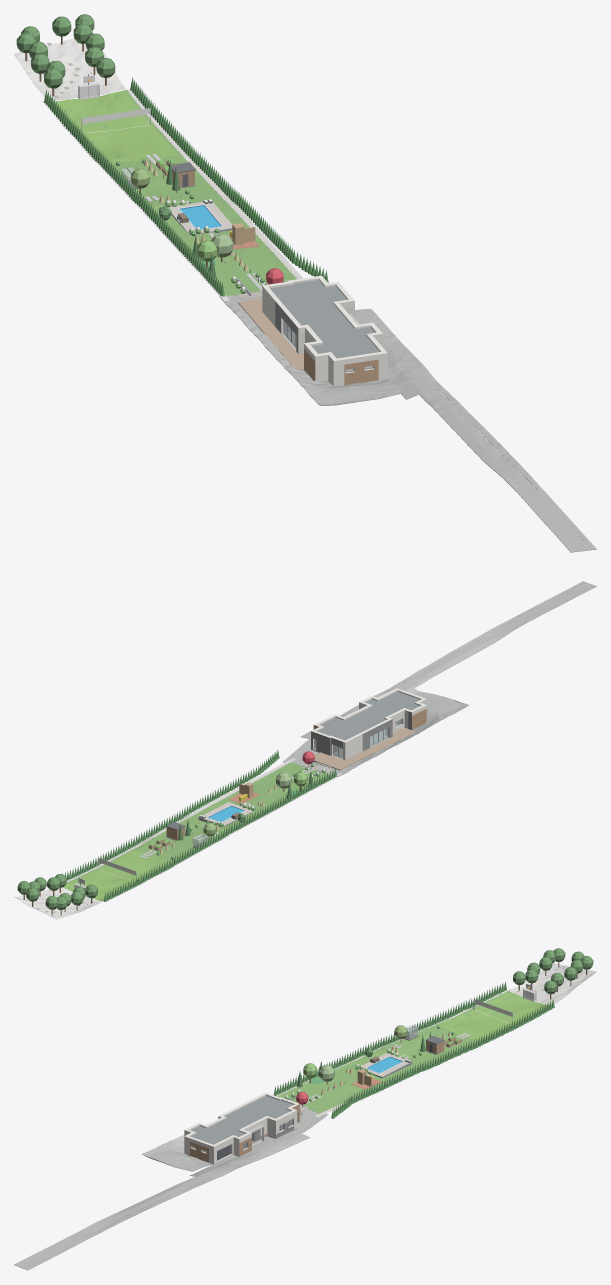
The picture shows the model from 3 angles, top to bottom: view 1: azimuth 30°, elevation 25°; view 2: azimuth 150°, elevation 25°; view 3: azimuth 330°, elevation 25°; orthographic projection. The views are drawn at different scales.
Parts seen in each view (by area): view 1: material_021, material_025, material_067, material_028, material_027, material_014, material_066, material_017, material_015, material_023, material_019, material_054; view 2: material_021, material_067, material_025, material_027, material_028, material_014, material_066, material_023, material_015, material_018, material_017; view 3: material_021, material_025, material_067, material_028, material_014, material_027, material_066, material_017, material_015, material_019.
Boxes of the visible parts, x1,y1,x2,y2 form: material_021: (219,290,596,552); material_025: (61,90,296,295); material_067: (44,77,328,296); material_028: (55,90,178,163); material_027: (14,38,302,301); material_014: (270,280,379,358); material_066: (16,14,115,88); material_017: (262,286,387,386); material_015: (262,275,387,360); material_023: (238,298,303,370); material_019: (304,349,378,385); material_054: (78,82,150,124); material_021: (283,581,596,776); material_067: (62,750,336,901); material_025: (63,762,331,901); material_027: (14,758,342,919); material_028: (63,850,171,900); material_014: (317,691,420,740); material_066: (17,874,97,909); material_023: (314,727,415,770); material_015: (311,688,426,742); material_018: (311,711,411,755); material_017: (343,699,426,760); material_021: (14,1100,327,1270); material_025: (277,990,549,1113); material_067: (274,981,554,1118); material_028: (438,992,547,1041); material_014: (191,1096,293,1144); material_027: (273,963,596,1117); material_066: (513,948,593,994); material_017: (184,1110,297,1164); material_015: (184,1092,299,1146); material_019: (190,1104,299,1162).
Bounding box in the file's own units: 36.77 × 7.12 × 197.
